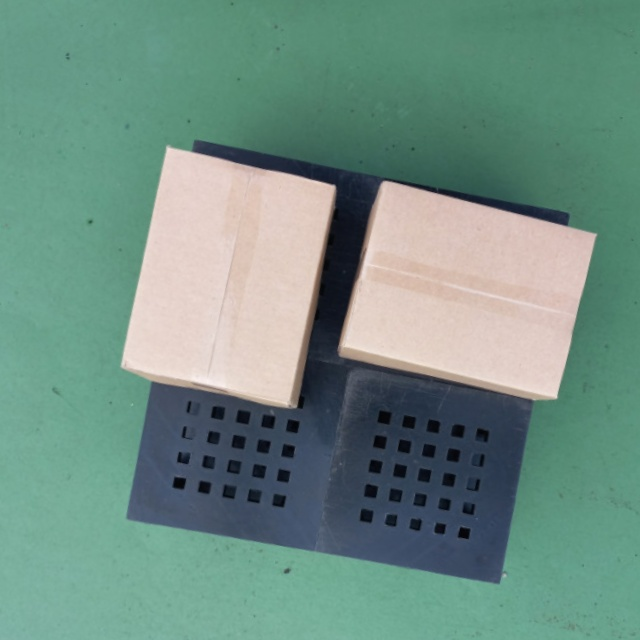box: (335, 176, 600, 404), (117, 143, 338, 410)
